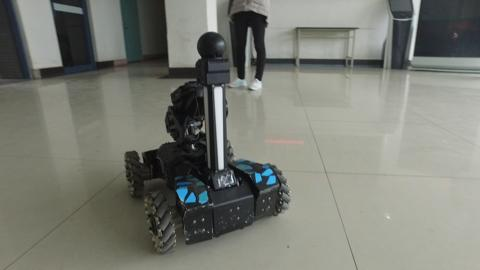chariot: (121, 29, 292, 254)
